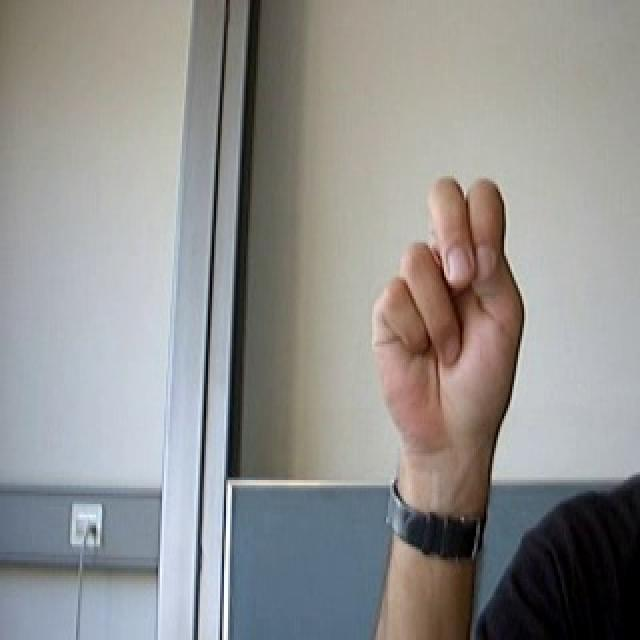N: (347, 162, 547, 448)
